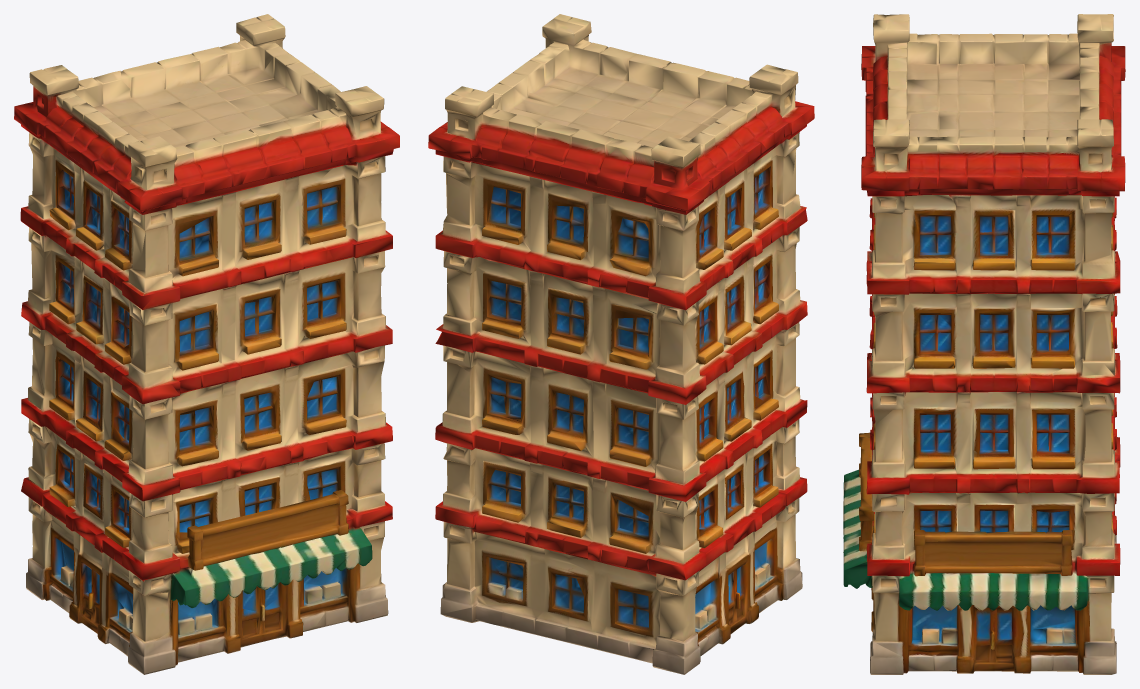
File: shop-5-lite.glb
The picture shows the model from 3 angles, left to right: view 1: azimuth 30°, elevation 25°; view 2: azimuth 150°, elevation 25°; view 3: azimuth 270°, elevation 25°; orthographic projection. The views are drawn at different scales.
Visible parts, largest first — view 1: tripo_node_0e4e161a-4f3e-40a9-9f4f-664119120ae3; view 2: tripo_node_0e4e161a-4f3e-40a9-9f4f-664119120ae3; view 3: tripo_node_0e4e161a-4f3e-40a9-9f4f-664119120ae3.
Part boxes in pixels (x1,y1,x2,y2): tripo_node_0e4e161a-4f3e-40a9-9f4f-664119120ae3: [14, 14, 399, 674]; tripo_node_0e4e161a-4f3e-40a9-9f4f-664119120ae3: [428, 14, 814, 674]; tripo_node_0e4e161a-4f3e-40a9-9f4f-664119120ae3: [843, 14, 1125, 674].
Size of the model in its own units: 10.64 by 20 by 9.49.
Materials: 1 (1 with a texture image).
